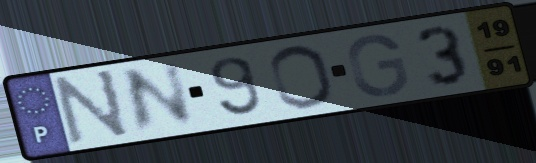3: (413, 23, 471, 88)
9: (207, 55, 265, 118)
G: (344, 32, 411, 99)
N: (52, 66, 132, 147), (119, 58, 199, 138)
O: (266, 42, 338, 111)
